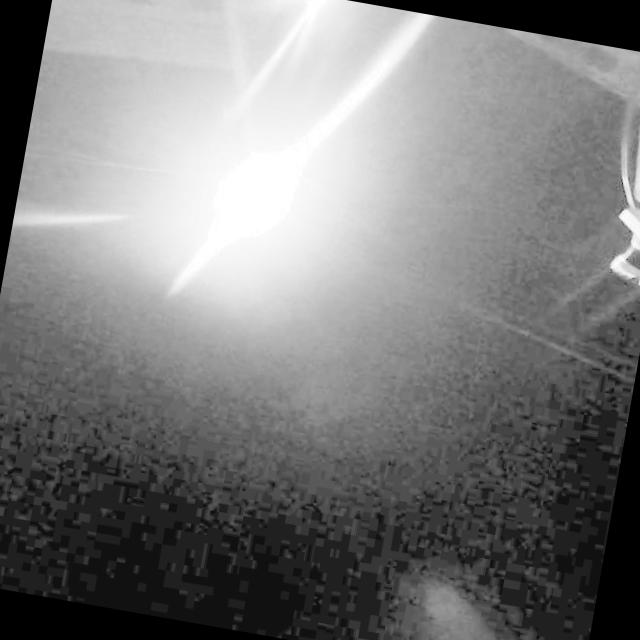Light: (192, 144, 314, 259)
